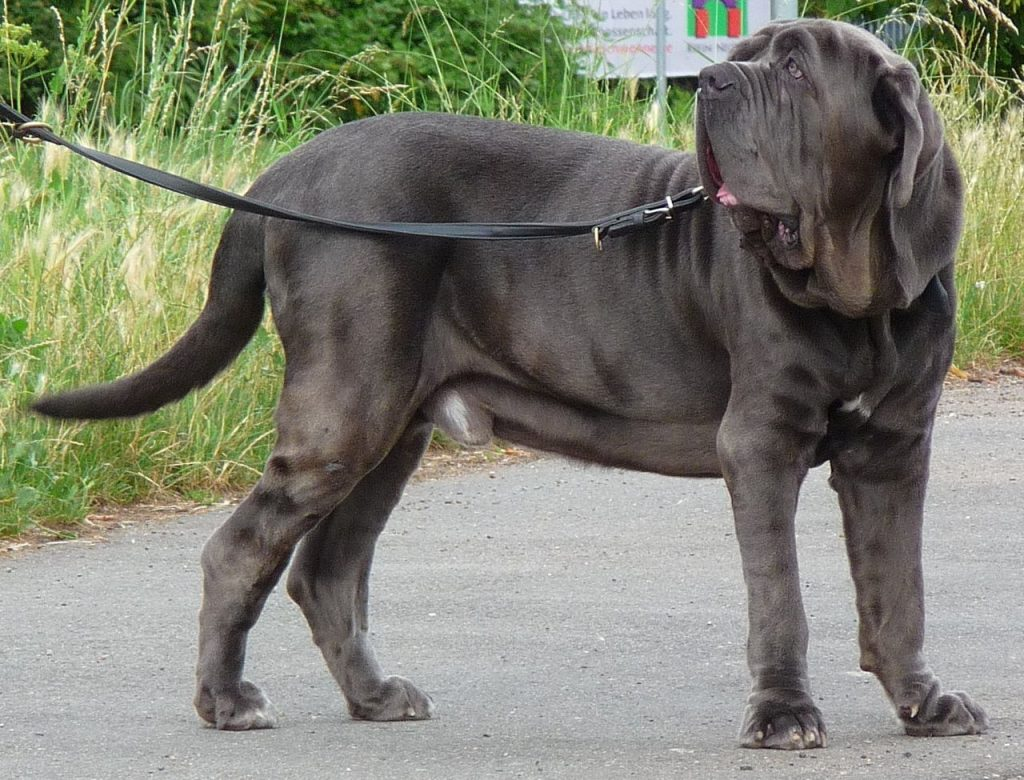neapolitan_mastiff: (18, 17, 991, 749)
